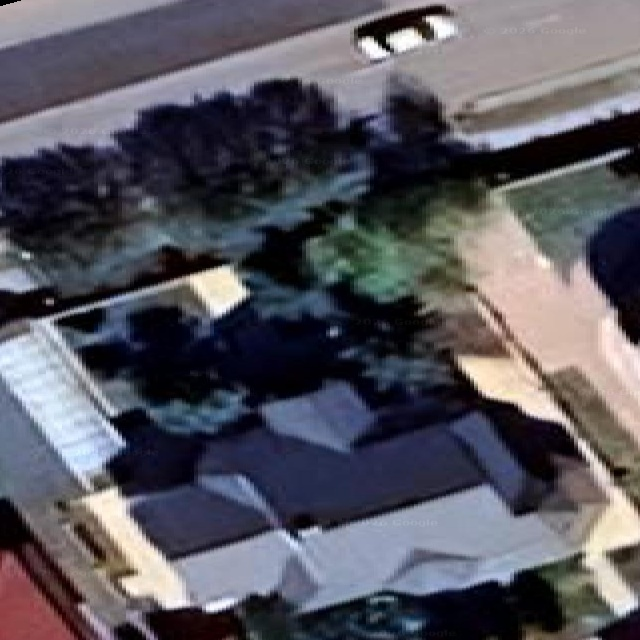car: (355, 4, 456, 60)
